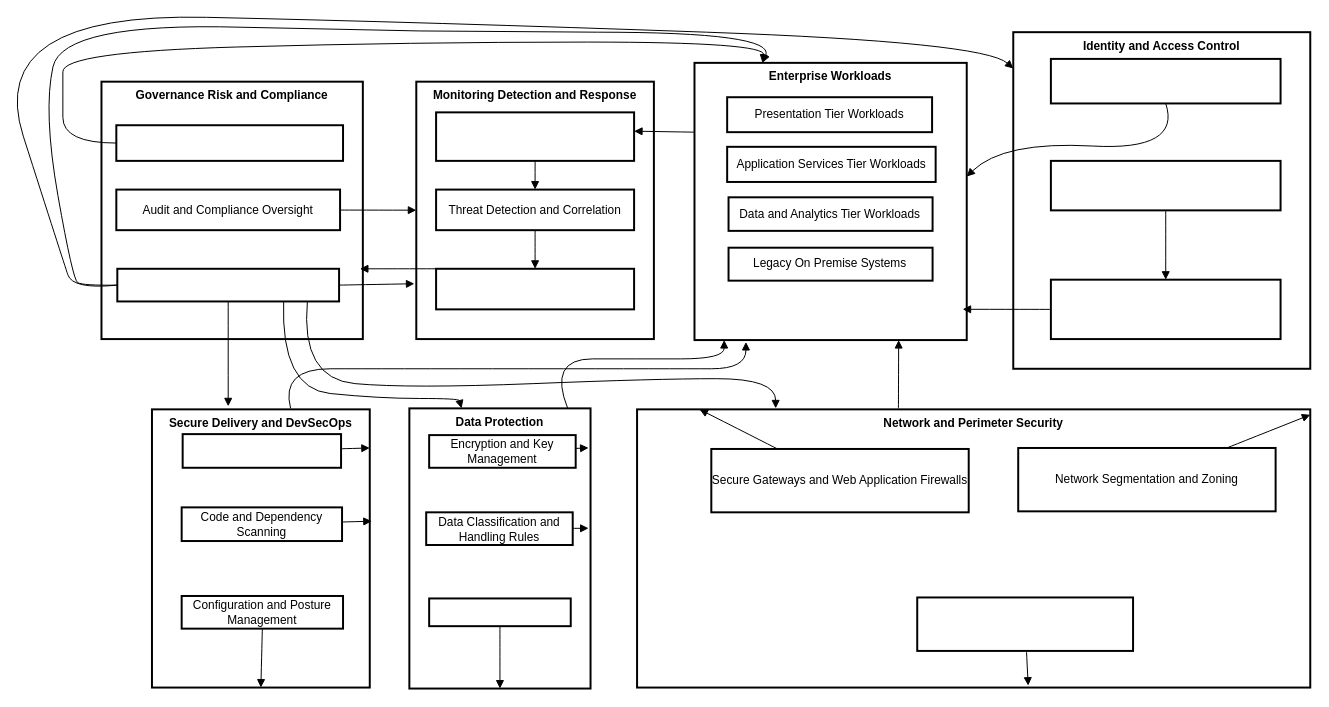
Image size: 1329x707. Some labels were removed from this diagram. Each missing label, with the centre of its shape:
"Architecture Review and Design Authority" belongs at [229,142].
"Backup and Recovery" belongs at [499,612].
"Central Identity Provider" belongs at [1165,185].
"Central Logging and Telemetry" belongs at [535,136].
"Incident Response and Playbooks" belongs at [535,288].
"Privileged Access Management" belongs at [1165,80].
"Role Based and Attribute Based Access" belongs at [1165,309].
"Secure Build and Release Pipelines" belongs at [261,450].
"Secure Remote Access" belongs at [1025,623].
"Security Policies and Standards" belongs at [228,284].
